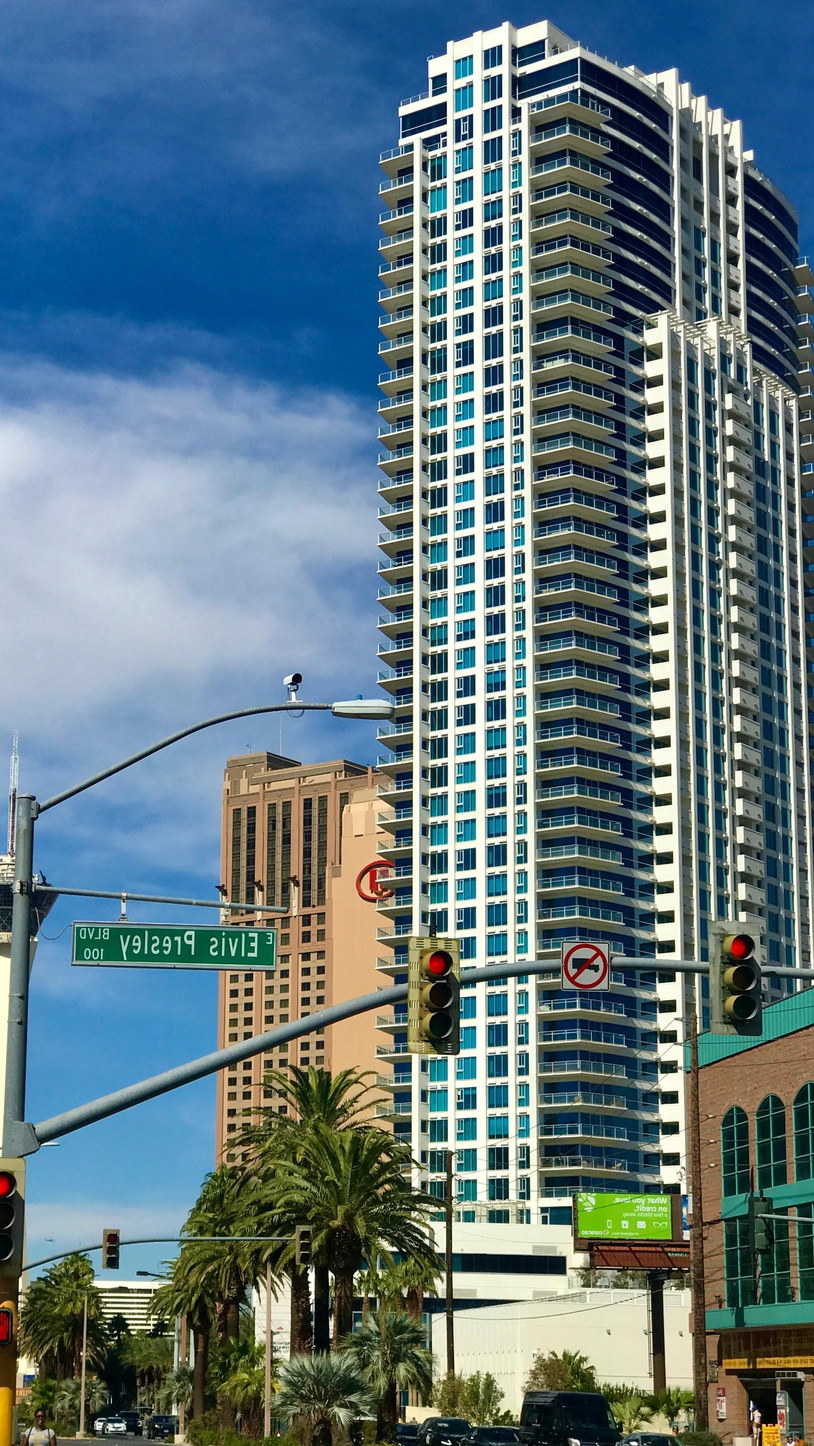red: (396, 919, 490, 1070)
